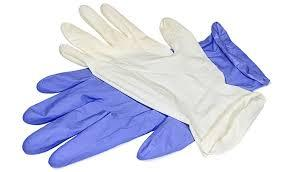Glove: (60, 19, 264, 153), (202, 23, 232, 59)
